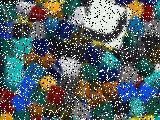Left: (80, 0, 132, 50)
